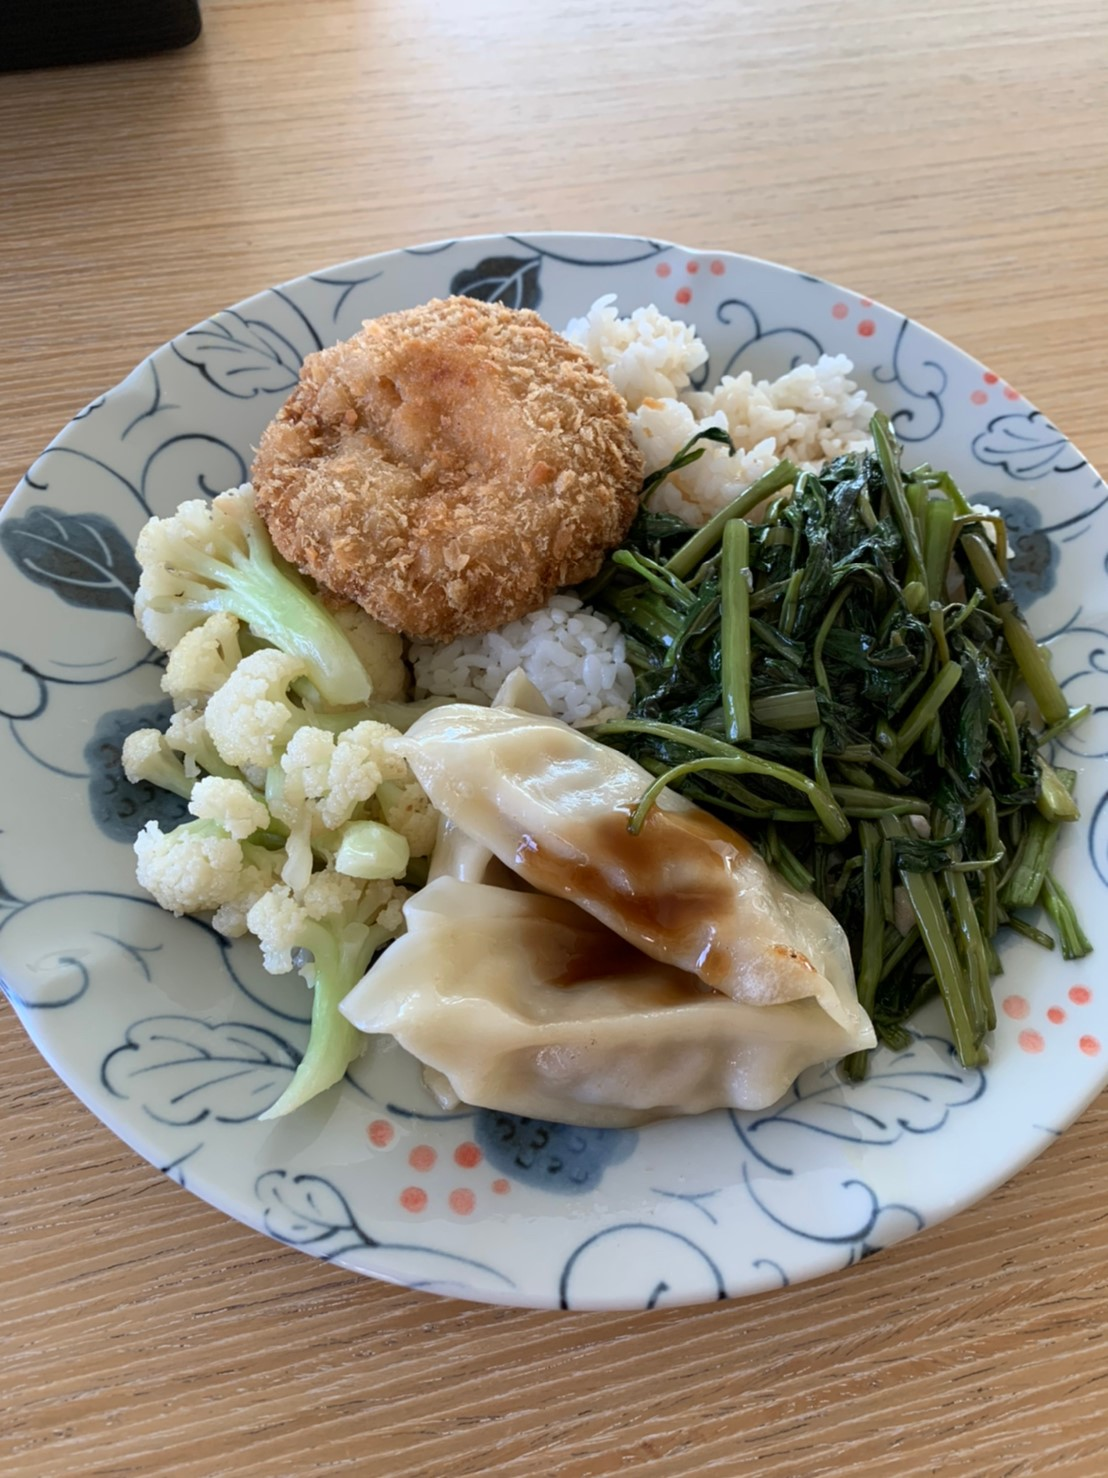fried_dumplings: (351, 678, 879, 1124)
rice: (608, 299, 869, 511)
water_spinach: (632, 500, 1060, 1011)
